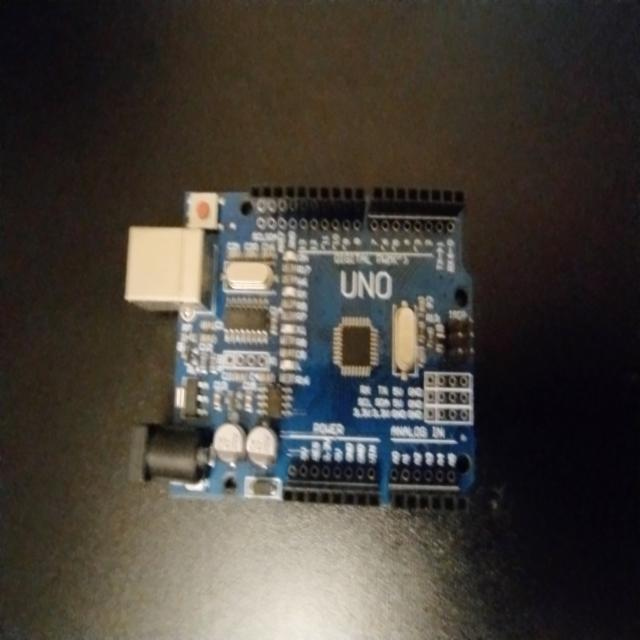arduino: (125, 184, 489, 519)
